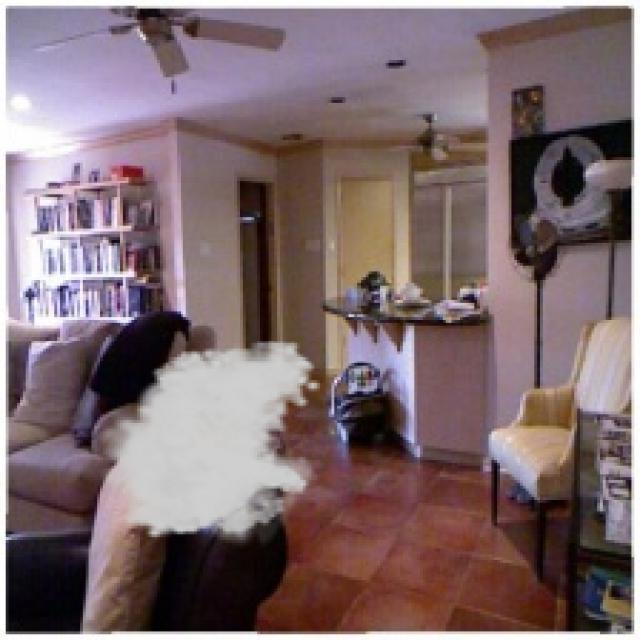Smoke: (91, 337, 323, 552)
